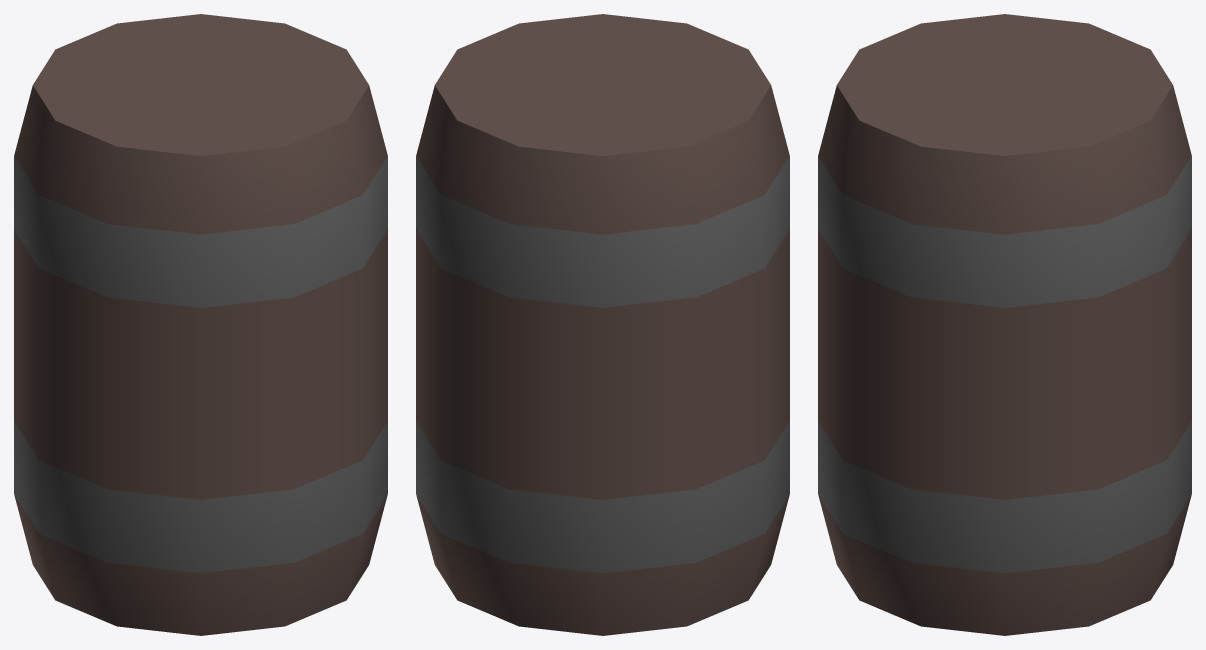
File: barrel_1.fbx
The picture shows the model from 3 angles, left to right: view 1: azimuth 30°, elevation 25°; view 2: azimuth 150°, elevation 25°; view 3: azimuth 270°, elevation 25°; orthographic projection.
Visible parts, largest first — view 1: Cylinder.004; view 2: Cylinder.004; view 3: Cylinder.004.
Part boxes in pixels (x1,y1,x2,y2): Cylinder.004: (14, 14, 387, 635); Cylinder.004: (416, 14, 789, 635); Cylinder.004: (818, 14, 1191, 635).
Size of the model in its own units: 48 by 68 by 48.
